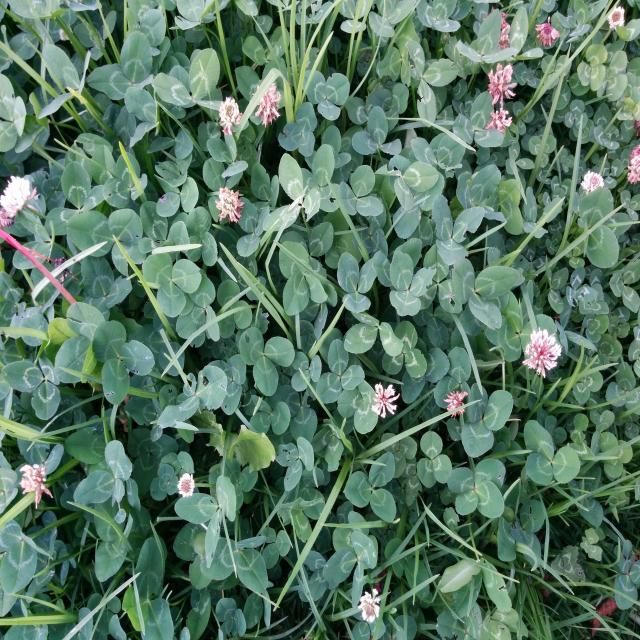Four Leaf Clover: (447, 460, 506, 518)
